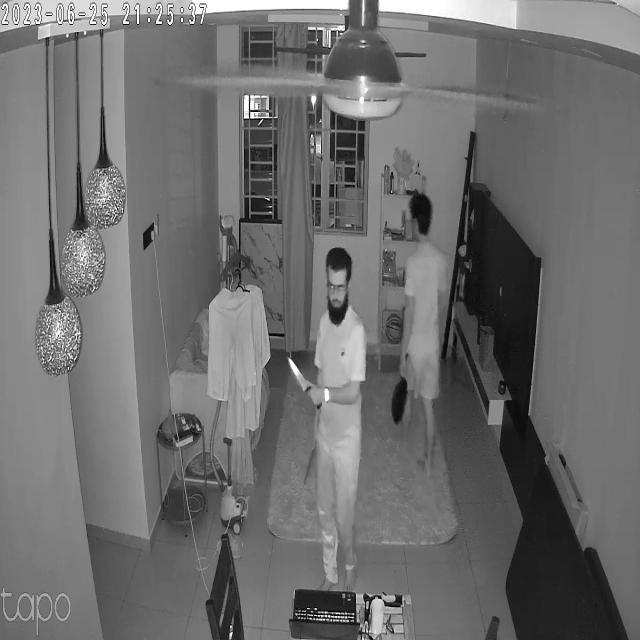Knife: (280, 352, 323, 406)
